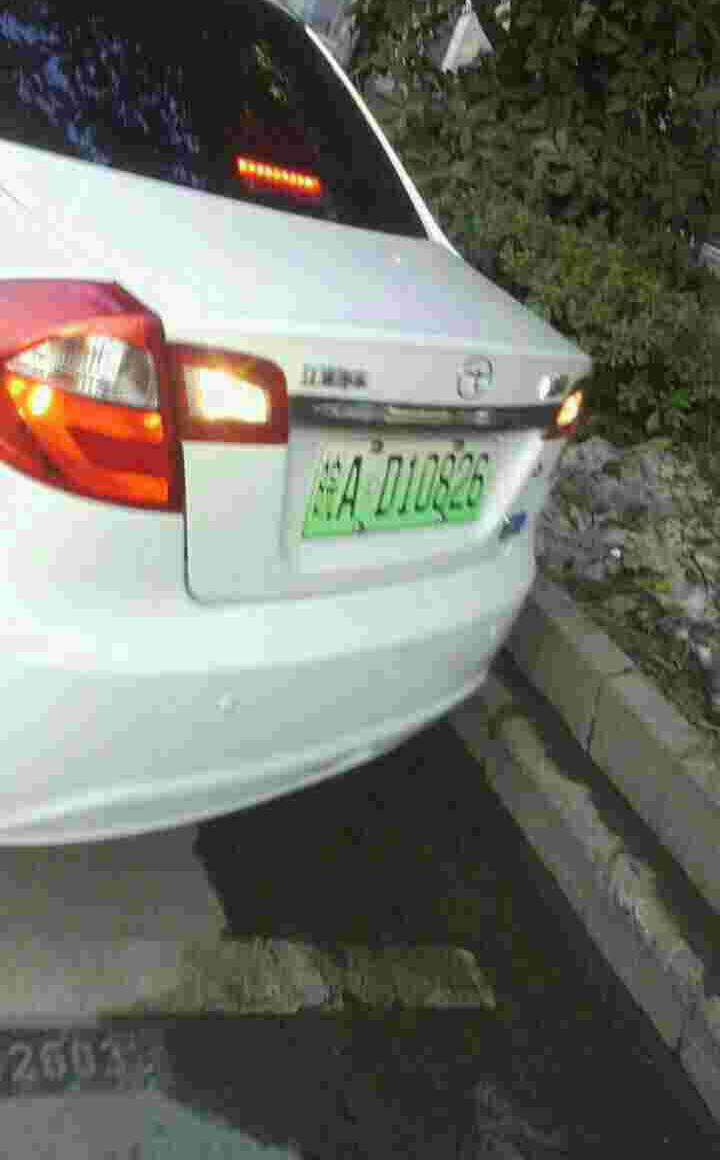car: (309, 442, 507, 540)
